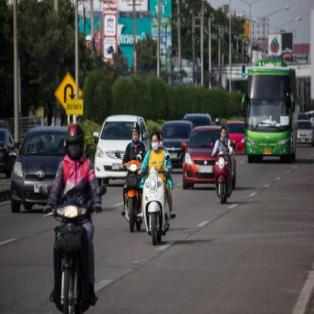Motocicleta: (42, 184, 108, 313), (139, 163, 177, 243), (122, 148, 146, 231), (209, 140, 233, 202)
